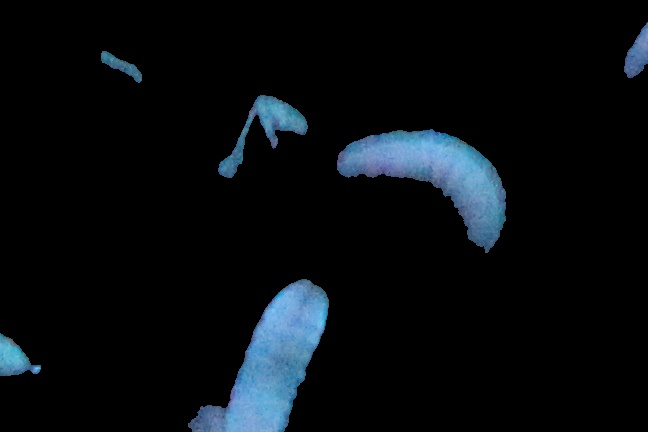larvae: (335, 127, 516, 263), (228, 275, 331, 432)
